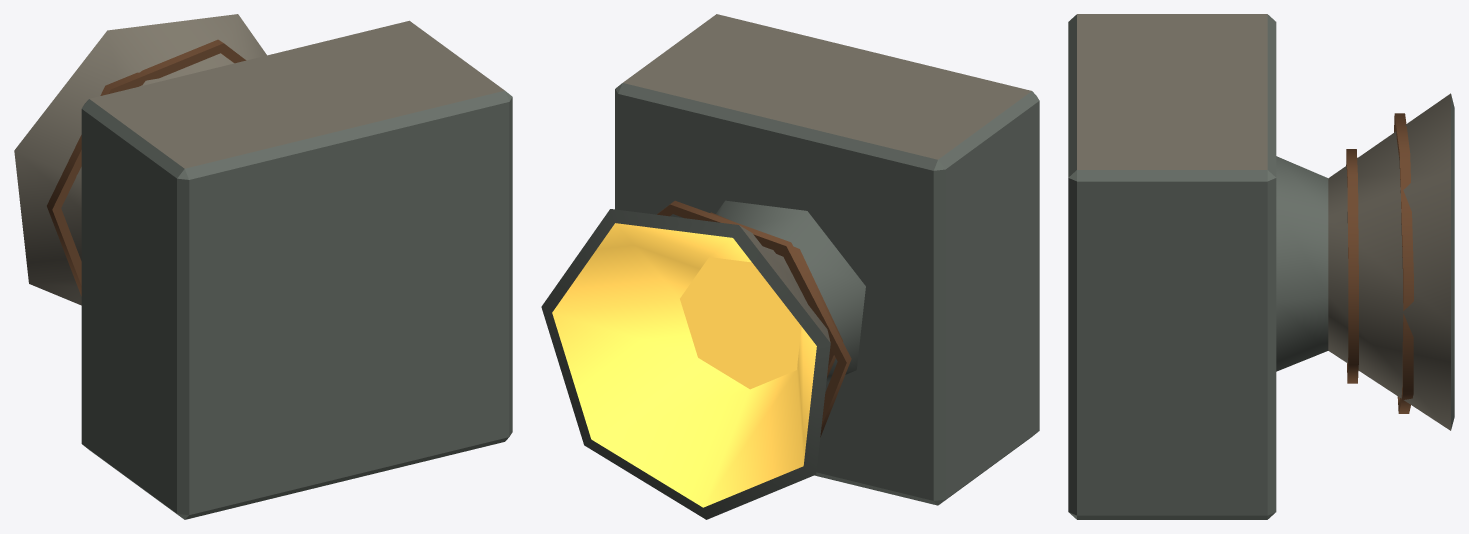
The model's file is R4X_Booster_LOD1.fbx.
3 views of the same model, side by side, from view 1: azimuth 30°, elevation 25°; view 2: azimuth 150°, elevation 25°; view 3: azimuth 270°, elevation 25° (orthographic).
Parts seen in each view (by area): view 1: R4X_Booster_LOD1; view 2: R4X_Booster_LOD1; view 3: R4X_Booster_LOD1.
Boxes of the visible parts, box(x1,y1,x2,y2) form: R4X_Booster_LOD1: box(14, 14, 512, 519); R4X_Booster_LOD1: box(541, 14, 1039, 519); R4X_Booster_LOD1: box(1068, 14, 1454, 519).
Bounding box in the file's own units: 0.52 × 0.52 × 0.52.
